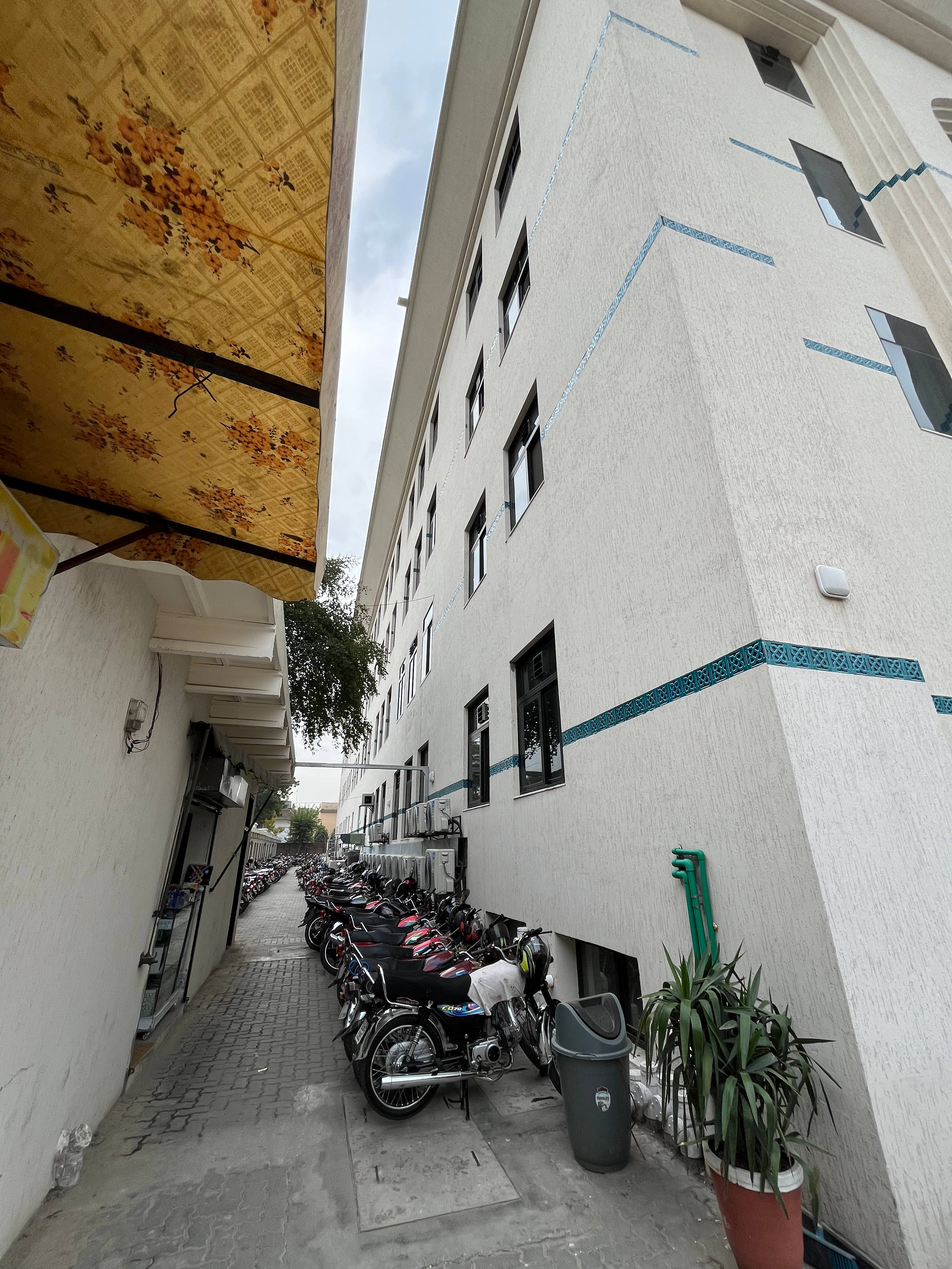Block F: (337, 2, 952, 1268)
